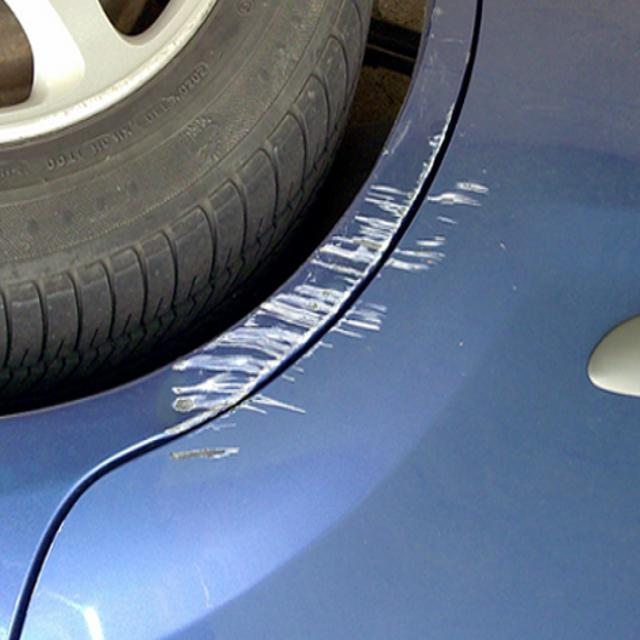scratch: (143, 152, 498, 477)
